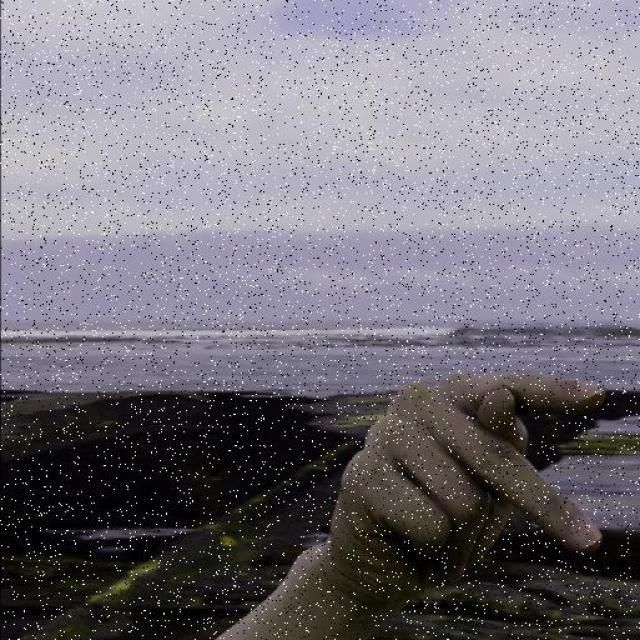P: (326, 368, 605, 602)
